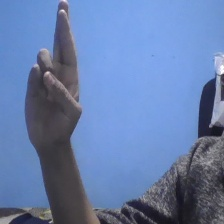R: (22, 1, 85, 147)
